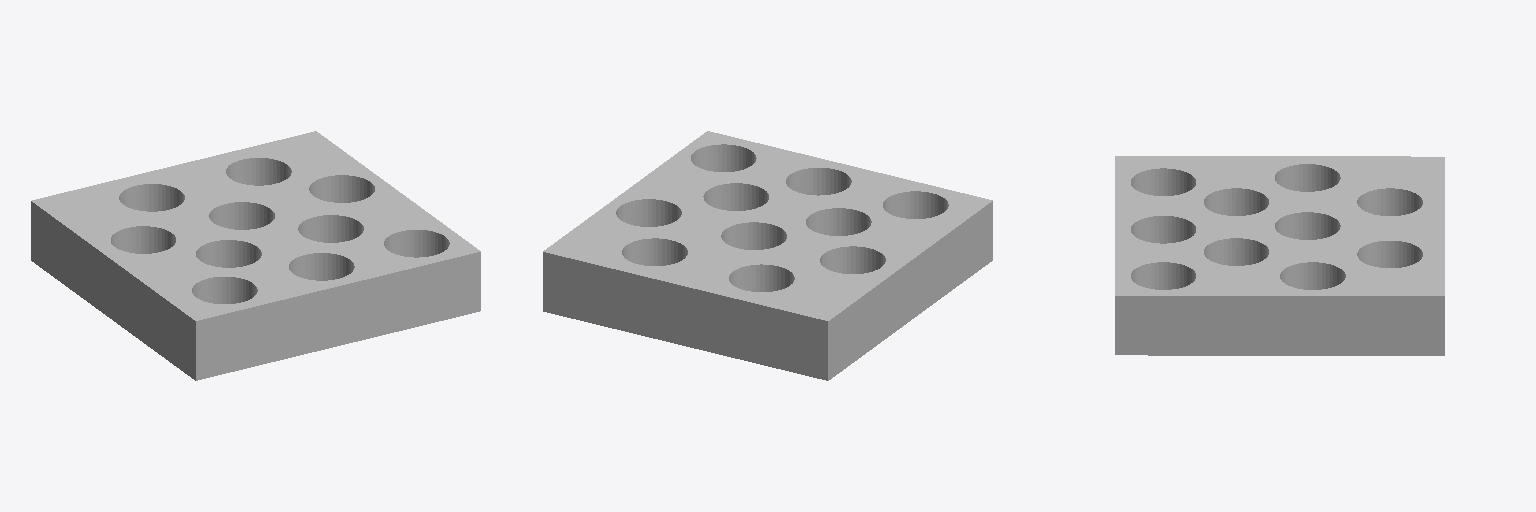
Rendered from spear trap base.obj.
3 renders of one model, left to right at view 1: azimuth 30°, elevation 25°; view 2: azimuth 150°, elevation 25°; view 3: azimuth 270°, elevation 25°, orthographic.
Visible parts, largest first — view 1: Spears_Trap_Base; view 2: Spears_Trap_Base; view 3: Spears_Trap_Base.
Part boxes in pixels (x1,y1,x2,y2): Spears_Trap_Base: (31, 131, 480, 380); Spears_Trap_Base: (543, 131, 992, 380); Spears_Trap_Base: (1115, 156, 1444, 355).
Bounding box in the file's own units: 5 × 1 × 5.